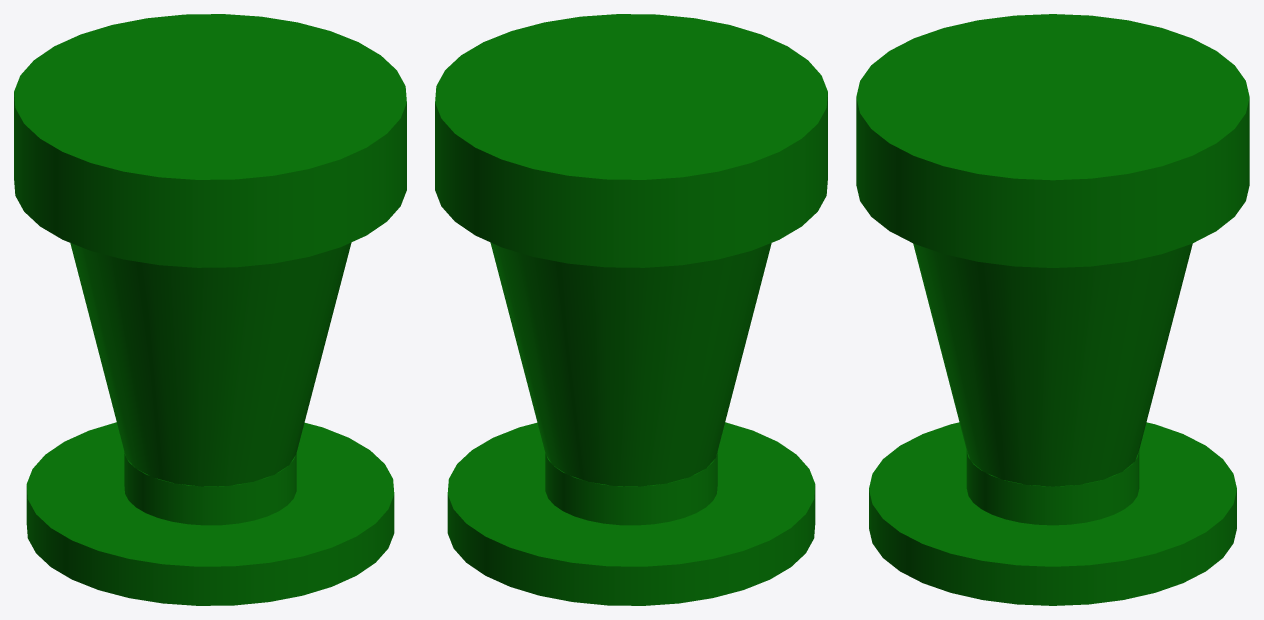
Rendered from Image-1710907553463-2281221064592_27-CX56.fbx.
3 views of the same model, side by side, from view 1: azimuth 30°, elevation 25°; view 2: azimuth 150°, elevation 25°; view 3: azimuth 270°, elevation 25° (orthographic).
Visible parts, largest first — view 1: CYLINDER 1 of SUBEQUIPMENT 1 of EQUIPMENT /27-CX56, NOZZLE 1 of EQUIPMENT /27-CX56, CONE 1 of SUBEQUIPMENT 1 of EQUIPMENT /27-CX56; view 2: CYLINDER 1 of SUBEQUIPMENT 1 of EQUIPMENT /27-CX56, NOZZLE 1 of EQUIPMENT /27-CX56, CONE 1 of SUBEQUIPMENT 1 of EQUIPMENT /27-CX56; view 3: CYLINDER 1 of SUBEQUIPMENT 1 of EQUIPMENT /27-CX56, NOZZLE 1 of EQUIPMENT /27-CX56, CONE 1 of SUBEQUIPMENT 1 of EQUIPMENT /27-CX56.
Part boxes in pixels (bbox=[...]): CYLINDER 1 of SUBEQUIPMENT 1 of EQUIPMENT /27-CX56: bbox=[14, 14, 406, 267]; NOZZLE 1 of EQUIPMENT /27-CX56: bbox=[26, 422, 394, 605]; CONE 1 of SUBEQUIPMENT 1 of EQUIPMENT /27-CX56: bbox=[70, 242, 351, 486]; CYLINDER 1 of SUBEQUIPMENT 1 of EQUIPMENT /27-CX56: bbox=[435, 14, 827, 267]; NOZZLE 1 of EQUIPMENT /27-CX56: bbox=[447, 422, 815, 605]; CONE 1 of SUBEQUIPMENT 1 of EQUIPMENT /27-CX56: bbox=[490, 242, 771, 486]; CYLINDER 1 of SUBEQUIPMENT 1 of EQUIPMENT /27-CX56: bbox=[856, 14, 1249, 267]; NOZZLE 1 of EQUIPMENT /27-CX56: bbox=[869, 422, 1236, 605]; CONE 1 of SUBEQUIPMENT 1 of EQUIPMENT /27-CX56: bbox=[913, 243, 1192, 486].
Bounding box in the file's own units: 0.203 × 0.203 × 0.257.
